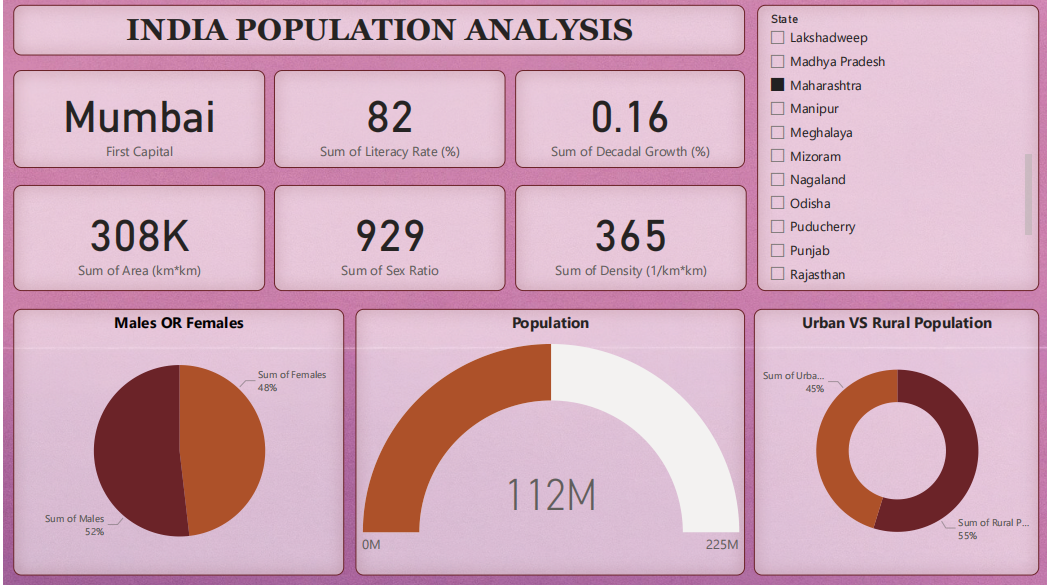

Layout of this report page (visuals, bound fields, positions):
{"tool":"powerbi","page":{"name":"Page 1","canvas":[1280,720],"ordinal":0},"visuals":[{"type":"textbox","box":[11.6,9,898.3,61.7],"z":0},{"type":"pieChart","title":"Males OR Females","fields":{"Y":["Sum(population.Females)","Sum(population.Males)"]},"box":[11.6,381.7,406.1,327.7],"z":1000},{"type":"slicer","fields":{"Values":["population.State"]},"box":[925.3,9,345.7,350.8],"z":2000},{"type":"card","fields":{"Values":["Min(population.Capital)"]},"box":[11.6,88.7,309.7,120.8],"z":3000},{"type":"card","fields":{"Values":["Sum(population.Literacy Rate (%))"]},"box":[331.6,88.7,284,120.8],"z":4000},{"type":"card","fields":{"Values":["Sum(population.Decadal Growth (%))"]},"box":[628.4,88.7,281.4,120.8],"z":5000},{"type":"card","fields":{"Values":["Sum(population.Area (km*km))"]},"box":[11.6,230,309.7,129.8],"z":6000},{"type":"card","fields":{"Values":["Sum(population.Sex Ratio)"]},"box":[331.6,230,284,129.8],"z":7000},{"type":"gauge","title":"Population","fields":{"Y":["Sum(population.Population)"]},"box":[431.8,381.7,478.1,327.7],"z":8000},{"type":"donutChart","title":"Urban VS Rural Population","fields":{"Y":["Sum(population.Rural Population)","Sum(population.Urban Population)"]},"box":[921.4,381.7,349.6,327.7],"z":9000},{"type":"card","fields":{"Values":["Sum(population.Density (1/km*km))"]},"box":[628.4,230,284,129.8],"z":10000}]}

Visuals, with their boxes in screenshot pixels (x1, y1, x2, y2), scaled from the page's 1280x720 canvas onto the 1053x585 screenshot:
textbox: {"x1": 10, "y1": 7, "x2": 749, "y2": 57}
"Males OR Females" pieChart: {"x1": 10, "y1": 310, "x2": 344, "y2": 576}
slicer - population.State: {"x1": 761, "y1": 7, "x2": 1046, "y2": 292}
card - Min(population.Capital): {"x1": 10, "y1": 72, "x2": 264, "y2": 170}
card - Sum(population.Literacy Rate (%)): {"x1": 273, "y1": 72, "x2": 506, "y2": 170}
card - Sum(population.Decadal Growth (%)): {"x1": 517, "y1": 72, "x2": 748, "y2": 170}
card - Sum(population.Area (km*km)): {"x1": 10, "y1": 187, "x2": 264, "y2": 292}
card - Sum(population.Sex Ratio): {"x1": 273, "y1": 187, "x2": 506, "y2": 292}
"Population" gauge: {"x1": 355, "y1": 310, "x2": 749, "y2": 576}
"Urban VS Rural Population" donutChart: {"x1": 758, "y1": 310, "x2": 1046, "y2": 576}
card - Sum(population.Density (1/km*km)): {"x1": 517, "y1": 187, "x2": 751, "y2": 292}
